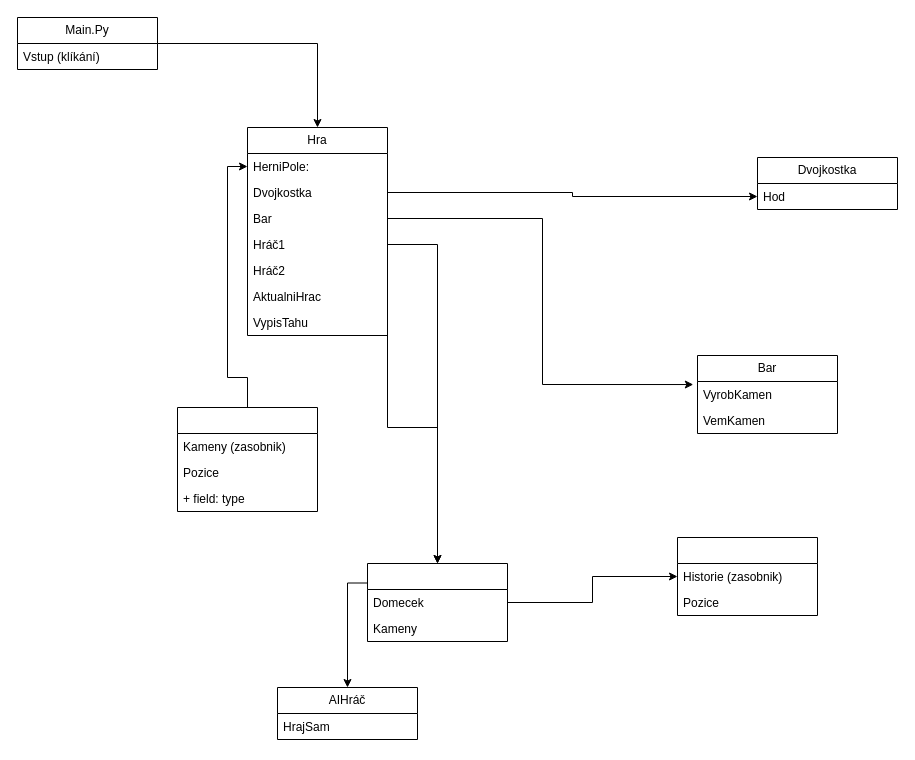
Image size: 915x760. Some labels were removed from this diagram. Each missing label, with the box of its shape:
Herní Kámen: (676, 536, 818, 616)
Hráč: (366, 562, 508, 642)
Policko: (176, 406, 318, 512)
